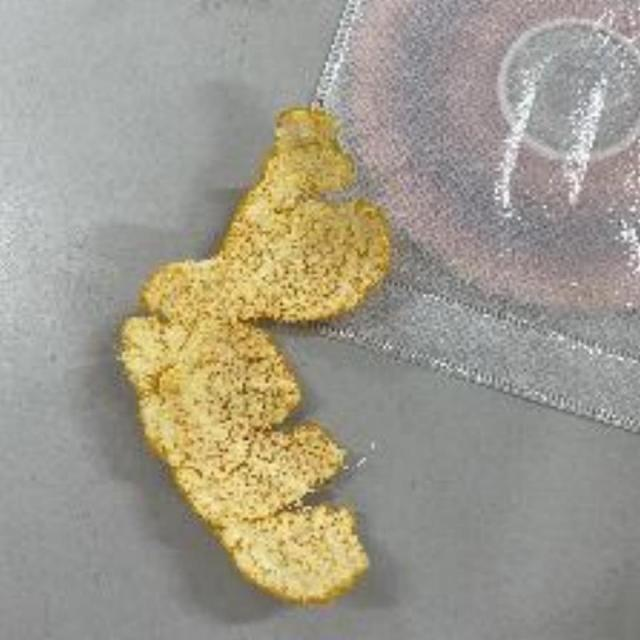orange-peel: (116, 102, 394, 608)
